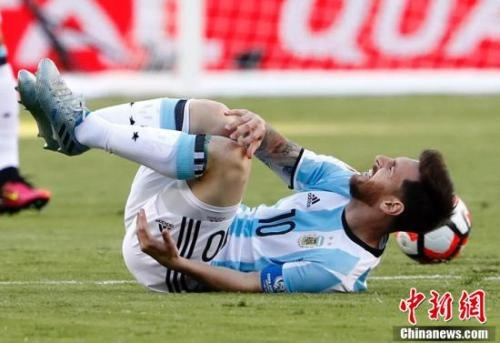falling: (20, 35, 478, 305)
